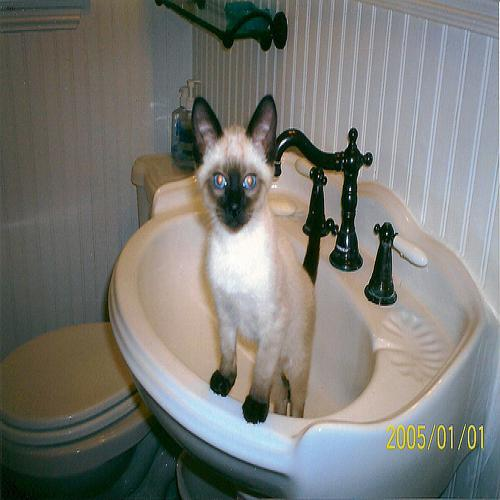siamese: (184, 81, 281, 244)
